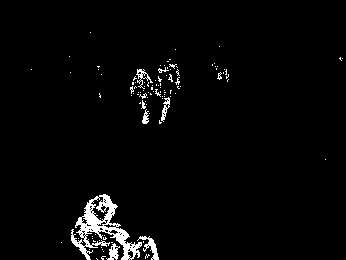person: (71, 192, 138, 260), (156, 59, 180, 125), (131, 68, 156, 126)
